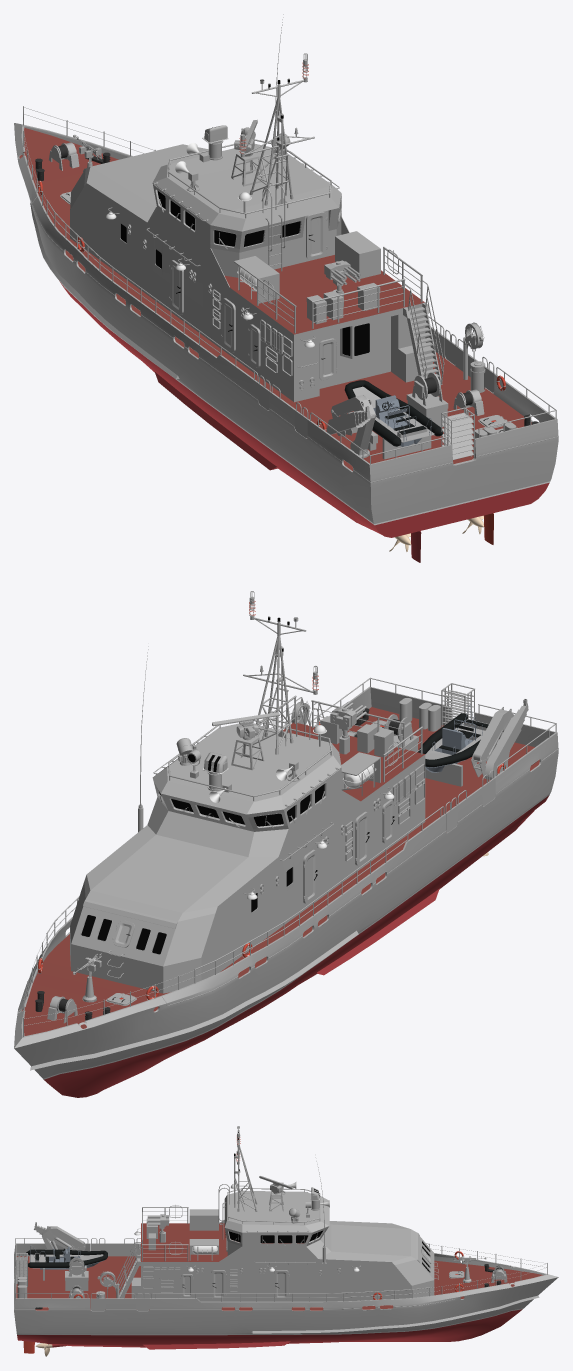
The model's file is RussianBoat.fbx.
The picture shows the model from 3 angles, top to bottom: view 1: azimuth 30°, elevation 25°; view 2: azimuth 150°, elevation 25°; view 3: azimuth 270°, elevation 25°; orthographic projection. The views are drawn at different scales.
Visible parts, largest first — view 1: LOD0; view 2: LOD0; view 3: LOD0.
Part boxes in pixels (x1,y1,x2,y2): LOD0: (14,14,558,562); LOD0: (14,591,558,1097); LOD0: (14,1126,558,1356).
Size of what is drawn, in the model's own units: 719 by 1341 by 2979.
